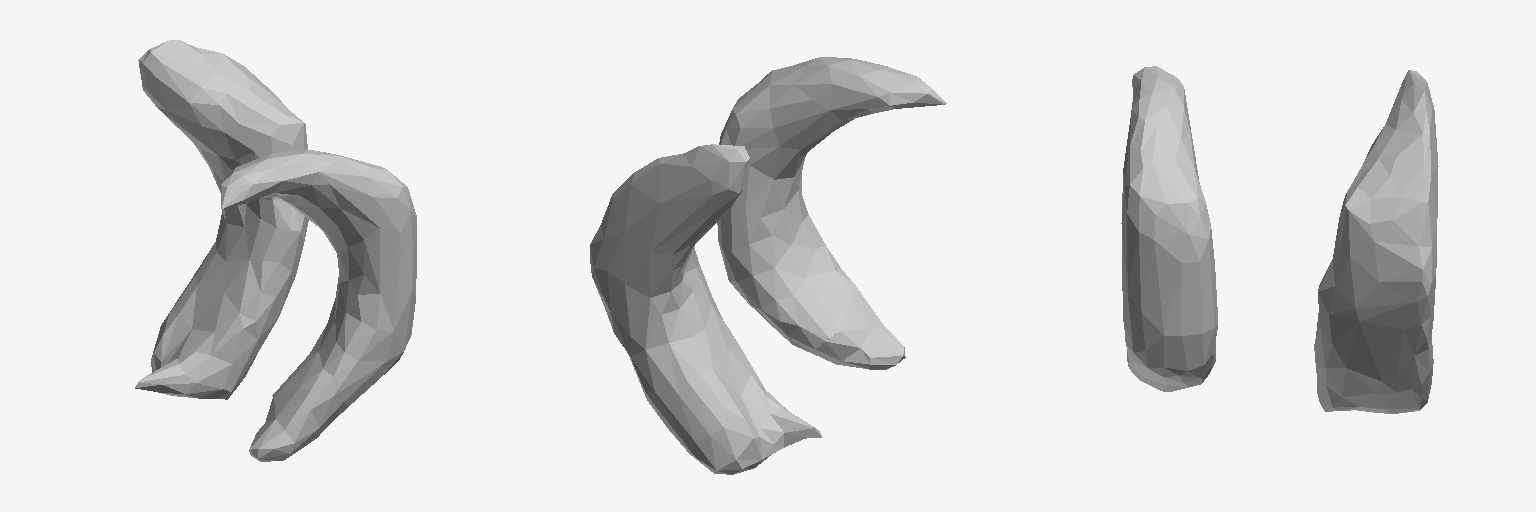
Rendered from MamilloThalamic Tract.obj.
3 views of the same model, side by side, from view 1: azimuth 30°, elevation 25°; view 2: azimuth 150°, elevation 25°; view 3: azimuth 270°, elevation 25° (orthographic).
Visible parts, largest first — view 1: Mamillothalamic-tract_mamillothalamic-tract; view 2: Mamillothalamic-tract_mamillothalamic-tract; view 3: Mamillothalamic-tract_mamillothalamic-tract.
Part boxes in pixels (bbox=[...]): Mamillothalamic-tract_mamillothalamic-tract: bbox=[135, 40, 416, 461]; Mamillothalamic-tract_mamillothalamic-tract: bbox=[590, 57, 946, 474]; Mamillothalamic-tract_mamillothalamic-tract: bbox=[1121, 66, 1438, 413].
Bounding box in the file's own units: 9.17 × 13.71 × 11.76.